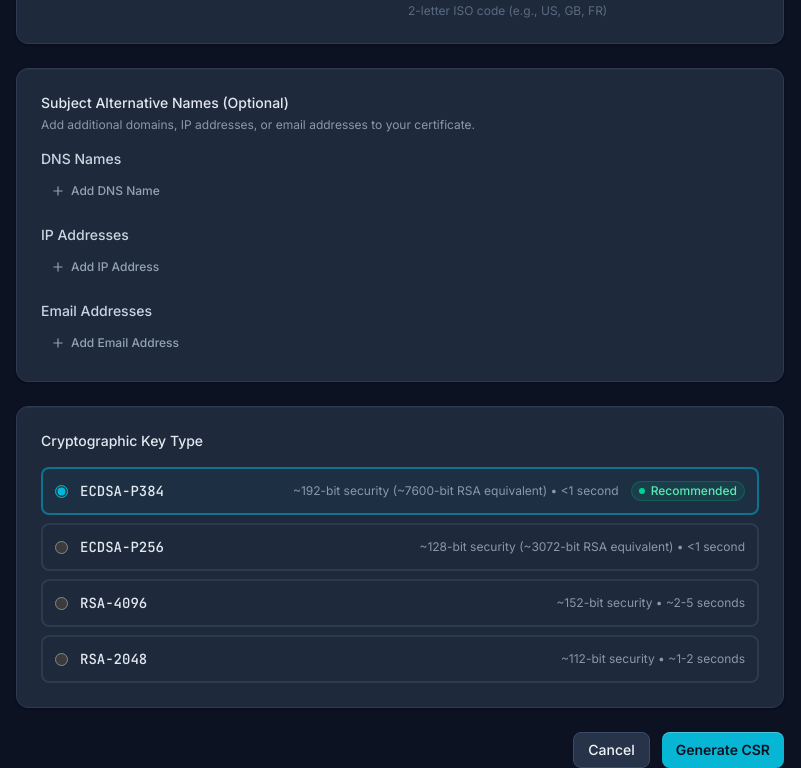
CsrGenerator - Security Tests › Default Key Type Security › should show warning when RSA-2048 is selected
This screenshot has width=801, height=768.
(page scrolled)
Select RSA-2048
Step 1. Click the radio button showing "RSA-2048" → (62, 659), box [55, 652, 68, 666]
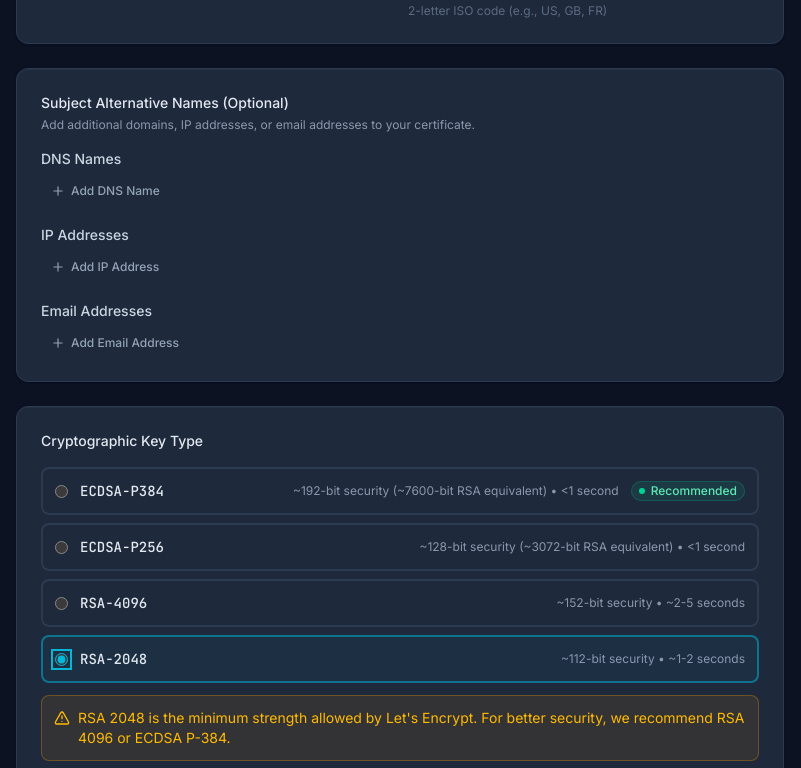
Now the text "minimum strength" is shown, box [78, 709, 744, 746]
